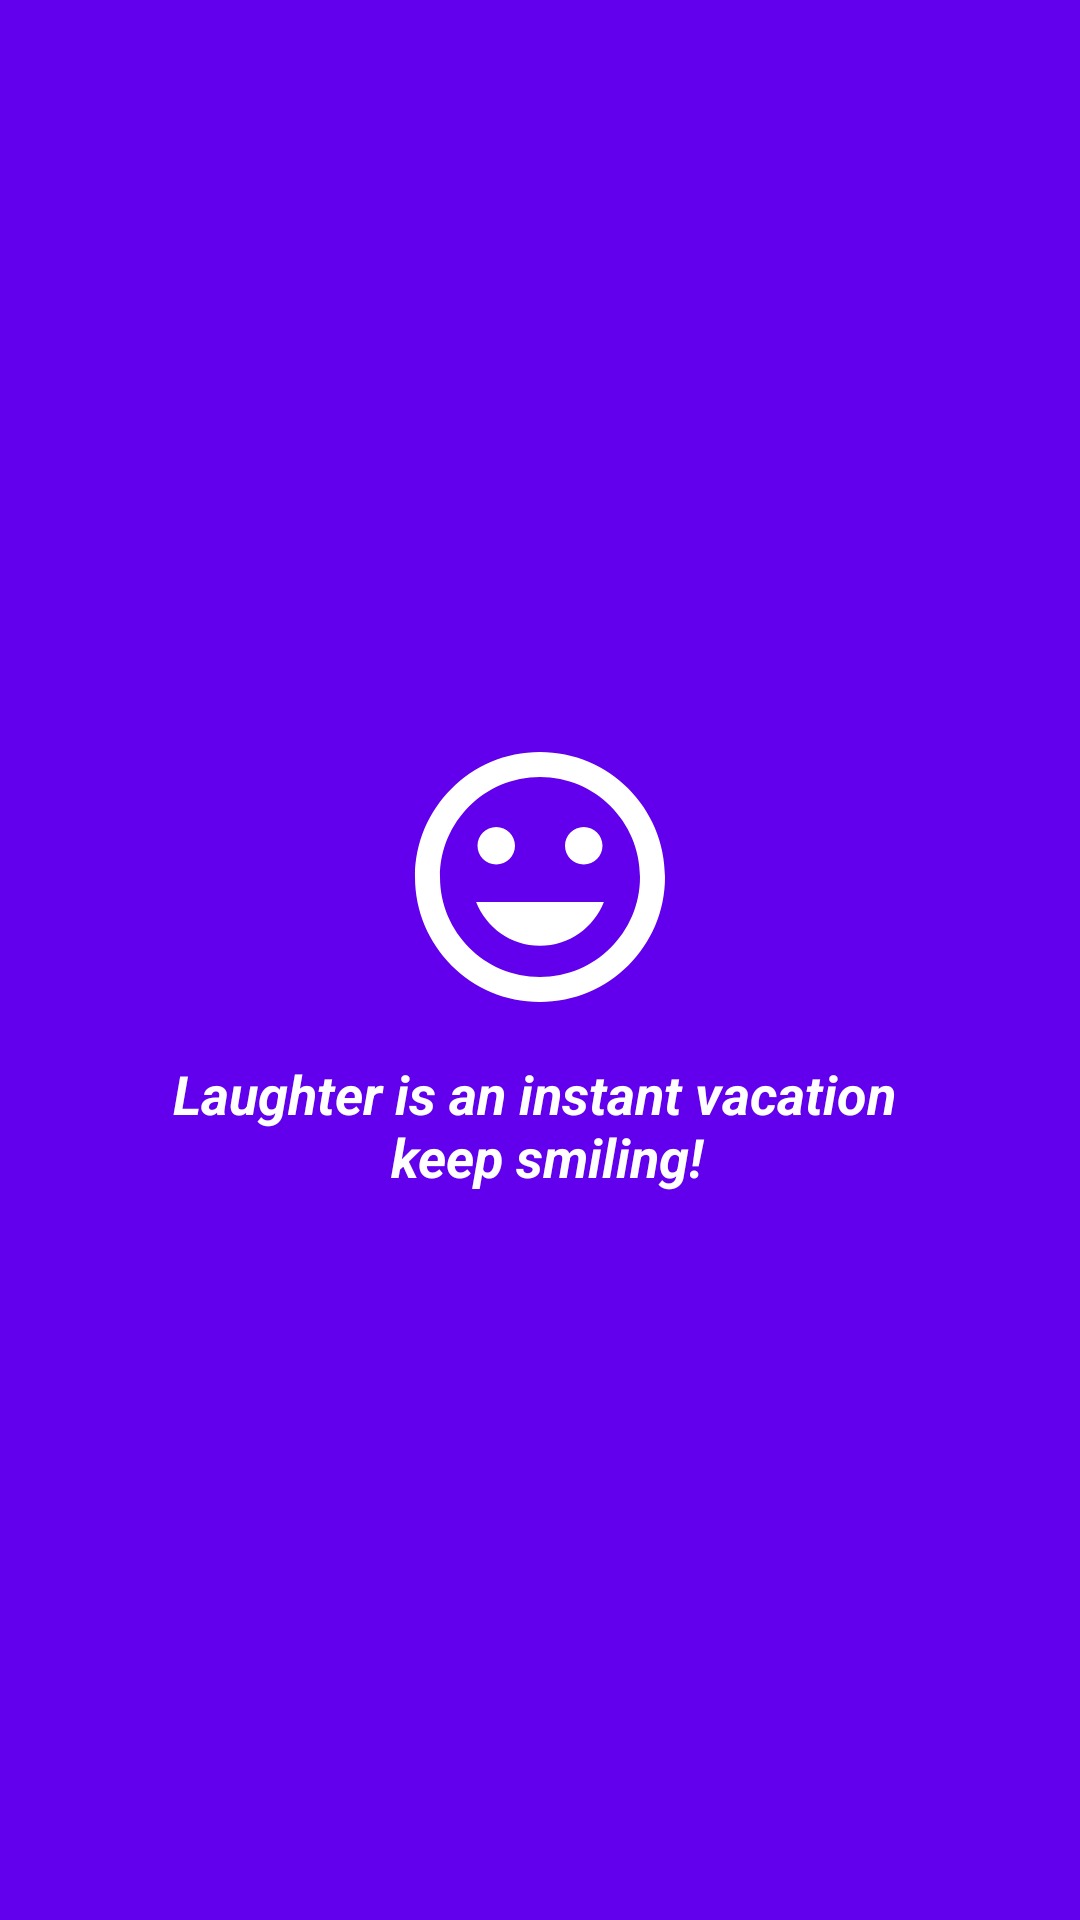

Named icons in this screenshot (1080x1920) and their centers, point (x, y):
smiley: point (540, 877)
